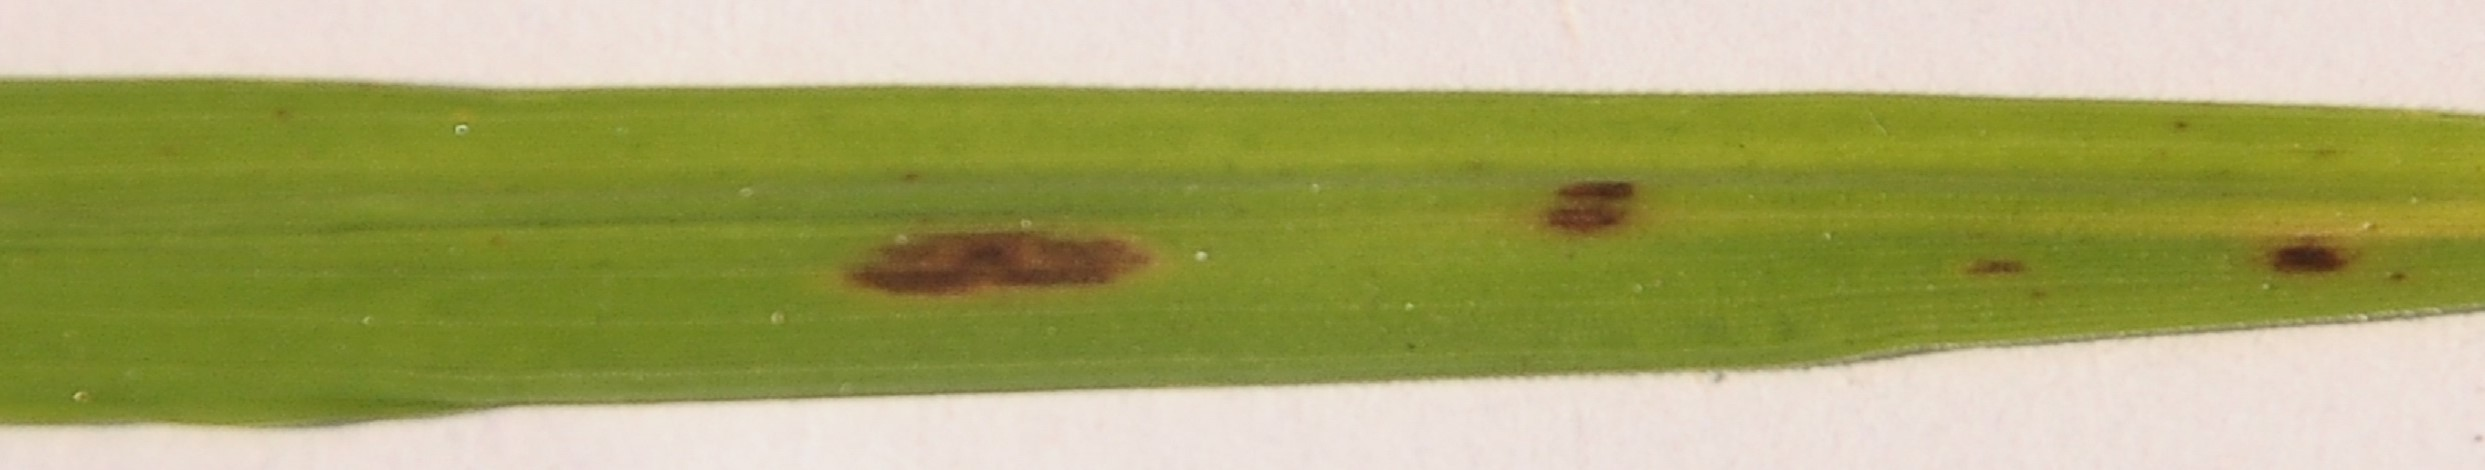brown_spot: (843, 171, 2415, 305)
